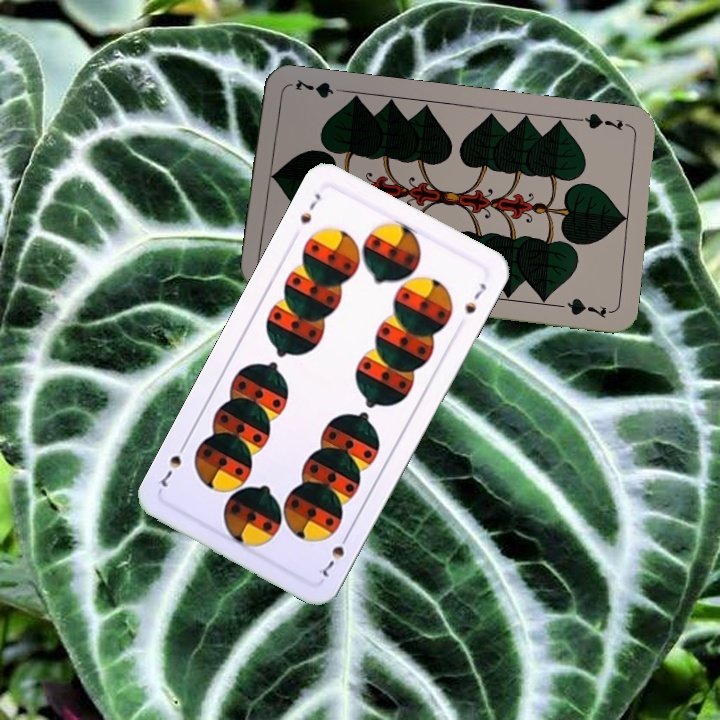G7: (574, 109, 634, 133)
S7: (314, 528, 353, 583), (296, 189, 324, 227)
